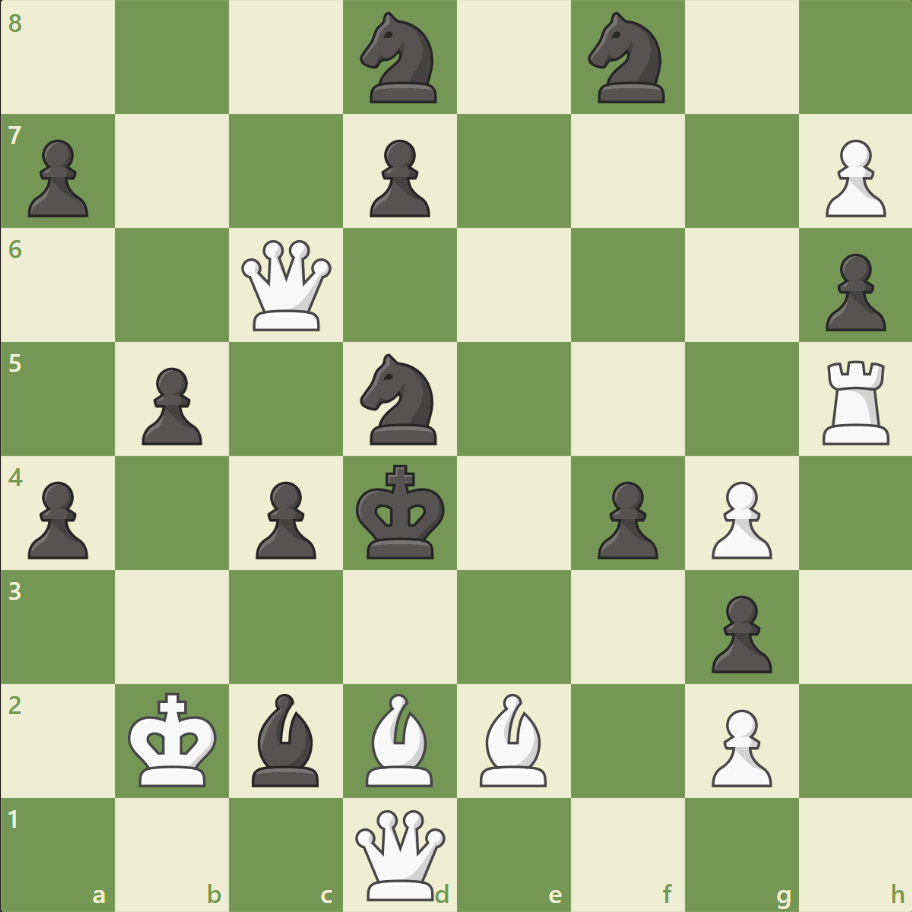B: (358, 687, 442, 790), (471, 687, 555, 790)
K: (124, 685, 224, 793)
P: (701, 473, 776, 564), (701, 700, 776, 791), (815, 132, 889, 223)
Q: (237, 236, 336, 335), (351, 804, 450, 903)
R: (814, 352, 897, 449)
b: (244, 687, 328, 790)
k: (351, 458, 451, 566)
n: (351, 7, 449, 110), (351, 348, 449, 450), (579, 7, 676, 110)
p: (20, 132, 95, 223), (133, 359, 208, 450), (20, 473, 95, 564), (247, 473, 322, 564), (701, 586, 776, 677), (361, 132, 435, 223), (815, 246, 889, 337), (588, 473, 662, 564)
